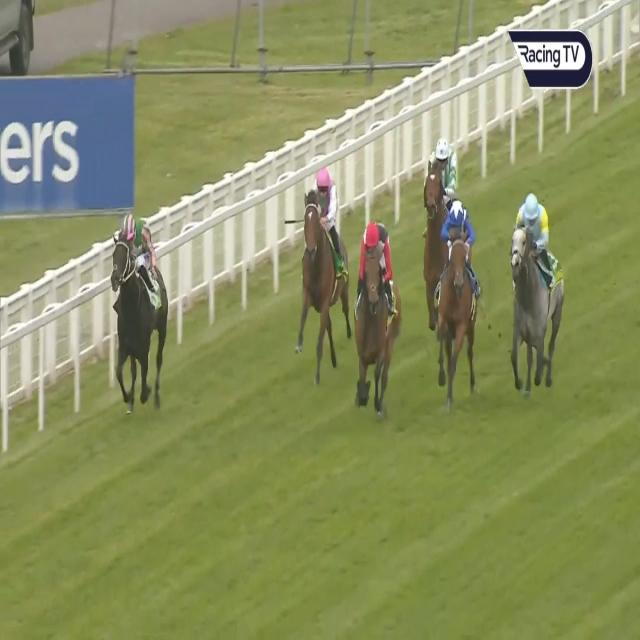horses-racing: (503, 188, 569, 408), (106, 206, 176, 410), (291, 163, 348, 358), (432, 202, 483, 411), (354, 217, 398, 417), (421, 133, 452, 284)
